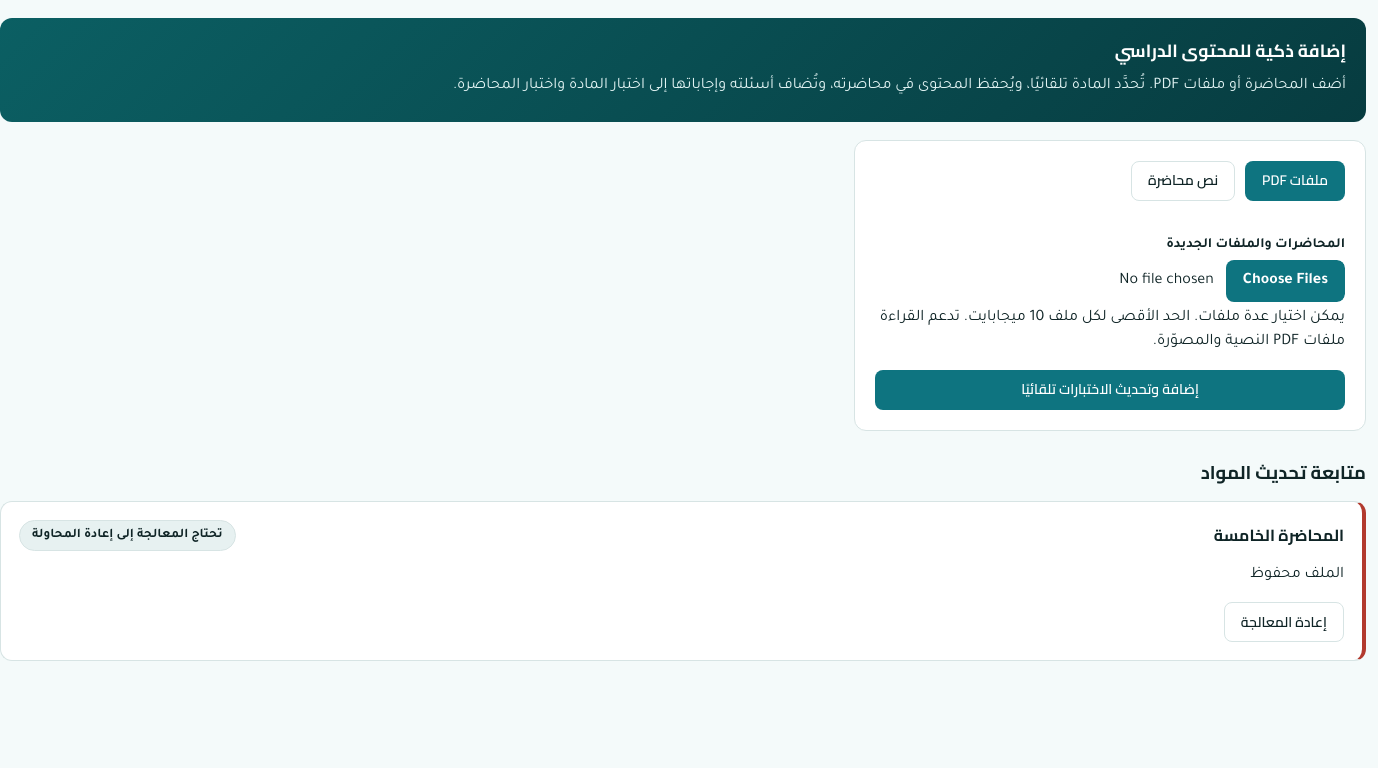
it: automatic content upload › retries a failed import with its saved source
Check: the button "إضافة وتحديث الاختبارات تلقائيًا" is enabled, box [875,370,1345,410]
Click the button "إعادة المعالجة" at (1284, 622), box [1224,602,1344,642]
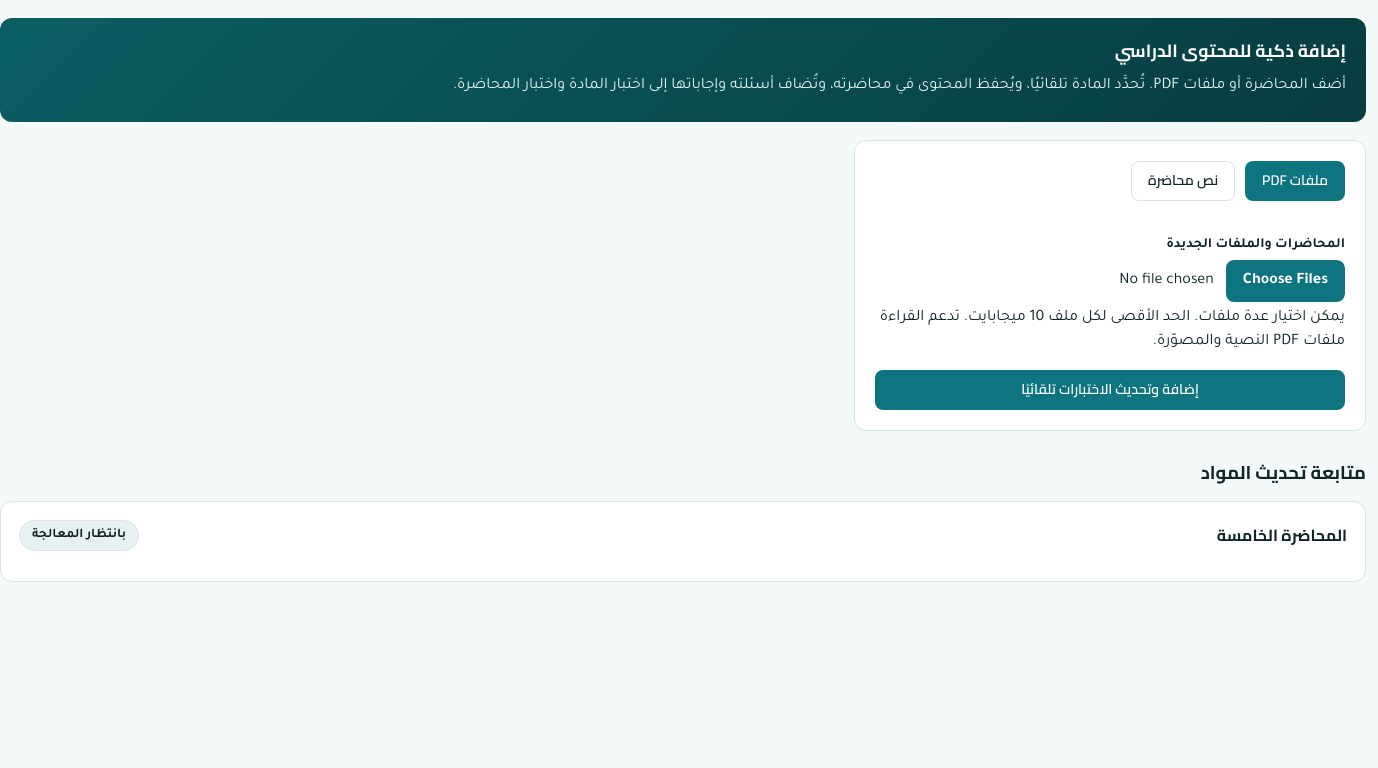
Check: the text "بانتظار المعالجة" is shown, box [19,520,139,551]
Check: the button "إعادة المعالجة" is gone
